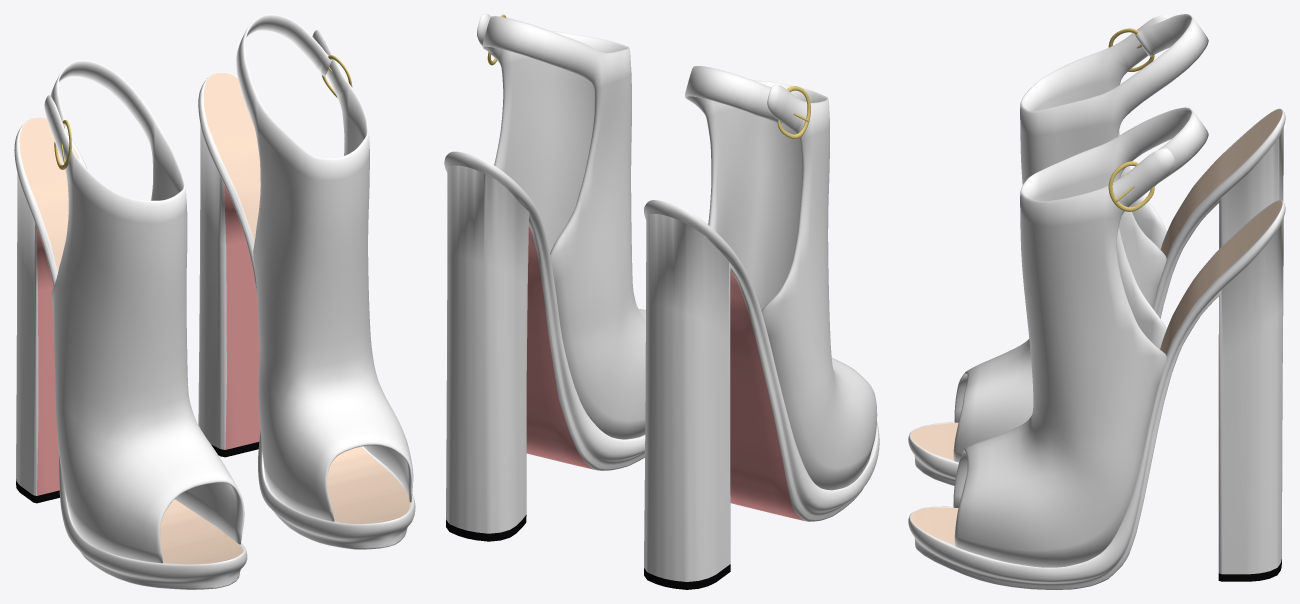
Rendered from heel_sandals.glb.
The picture shows the model from 3 angles, left to right: view 1: azimuth 30°, elevation 25°; view 2: azimuth 150°, elevation 25°; view 3: azimuth 270°, elevation 25°; orthographic projection. The views are drawn at different scales.
Parts seen in each view (by area): view 1: Object_2, Object_3, Object_4; view 2: Object_3, Object_2; view 3: Object_2, Object_3, Object_4.
Part boxes in pixels (x1,y1,x2,y2): Object_2: (44,14,413,563); Object_3: (14,72,415,589); Object_4: (54,55,352,169); Object_3: (444,151,879,589); Object_2: (477,14,877,490); Object_2: (953,14,1208,567); Object_3: (908,108,1285,589); Object_4: (1108,28,1154,211).
Size of the model in its own units: 0.2541 by 0.3504 by 0.2632.
2 materials, 1 textured.
